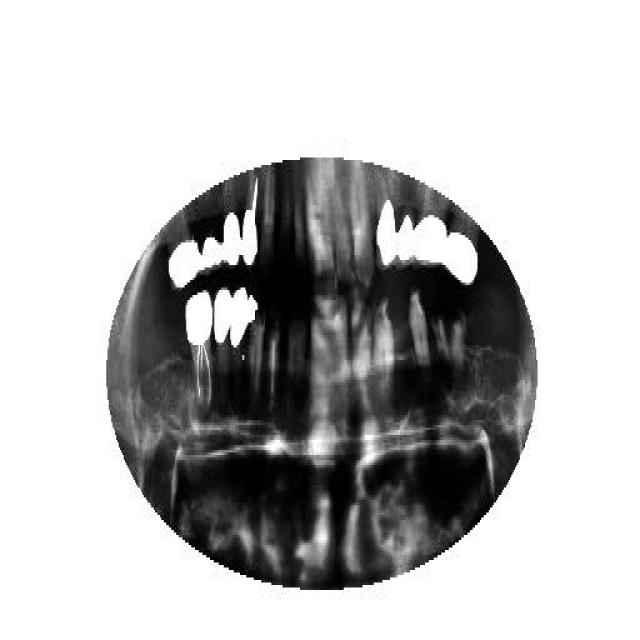Cavity: (247, 292, 265, 398), (266, 307, 282, 405), (430, 308, 449, 368), (449, 305, 466, 370)
Fillings: (164, 210, 200, 295), (445, 200, 479, 288), (414, 182, 448, 270), (373, 160, 398, 275), (212, 285, 232, 407), (220, 178, 241, 272), (247, 290, 265, 398), (230, 285, 248, 355), (399, 203, 415, 275), (202, 232, 222, 278)
Implant: (185, 288, 214, 410), (240, 165, 259, 267)
